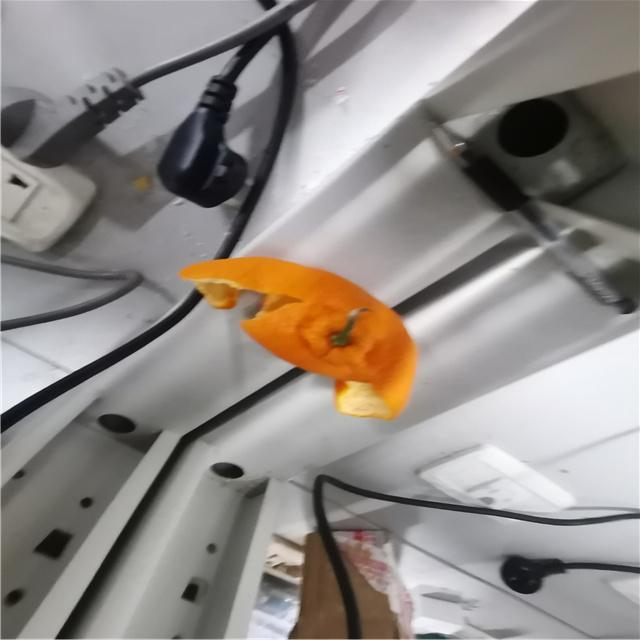orange peel: (177, 256, 417, 420)
